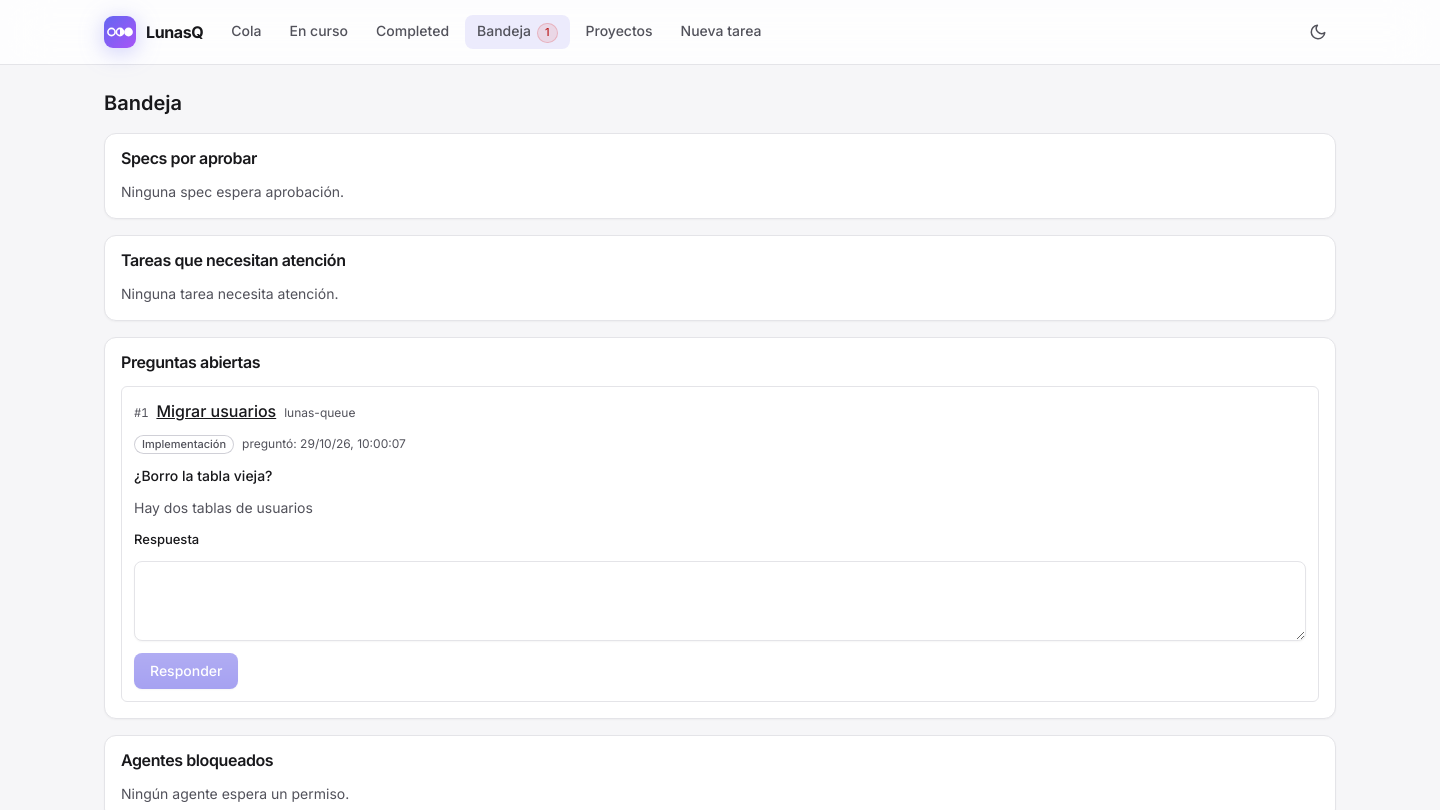
Scenario: bandeja › muestra la pregunta abierta con su contexto y la responde
Check: the text "¿Borro la tabla vieja?" is shown, box 134,467 -> 272,484
Check: the text "Hay dos tablas de usuarios" is shown, box 134,499 -> 313,516
In the text box labelled "Respuesta": [720, 601] box 134,561 -> 1306,641, type "Sí, bórrala"
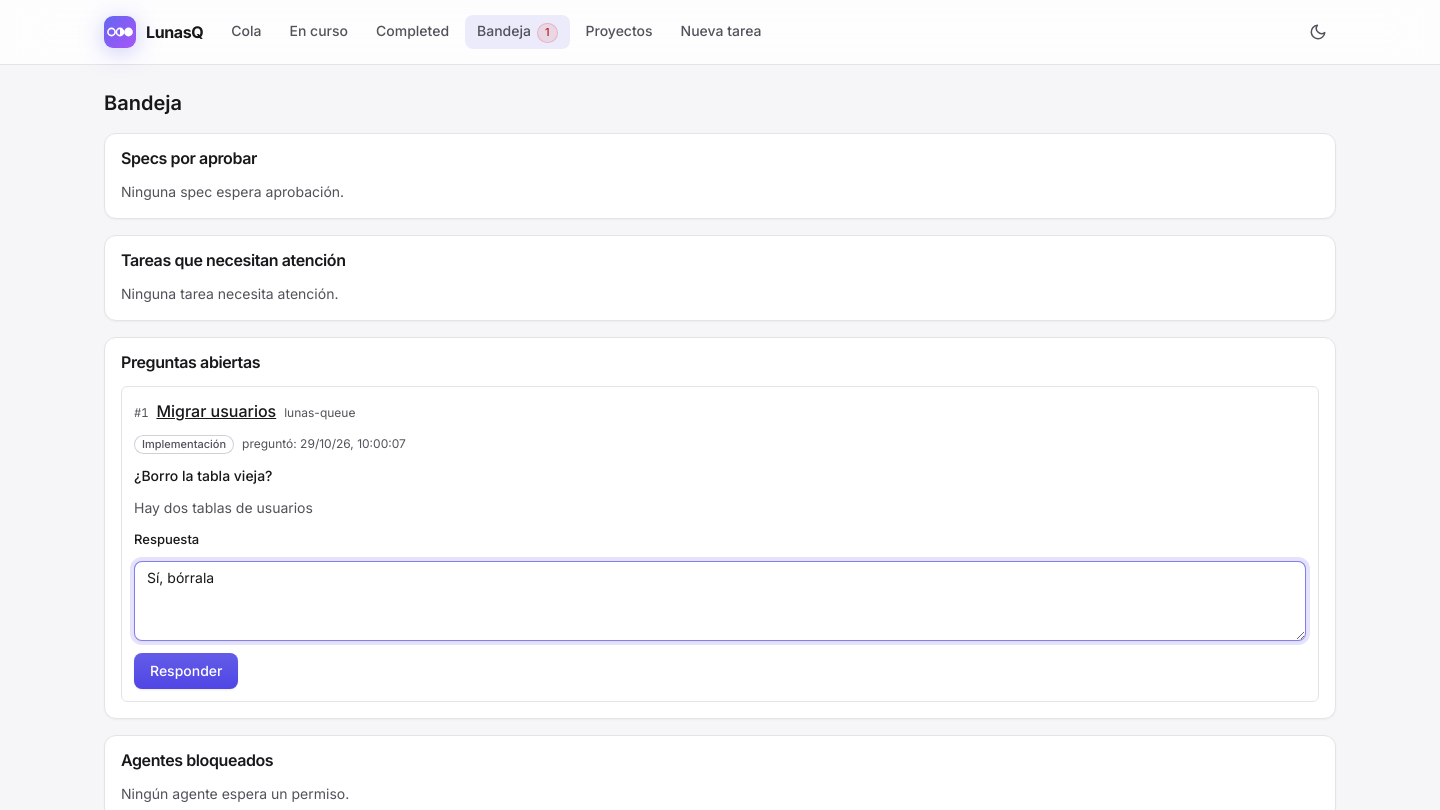
Click the button "Responder": [186, 671] box 134,653 -> 238,689
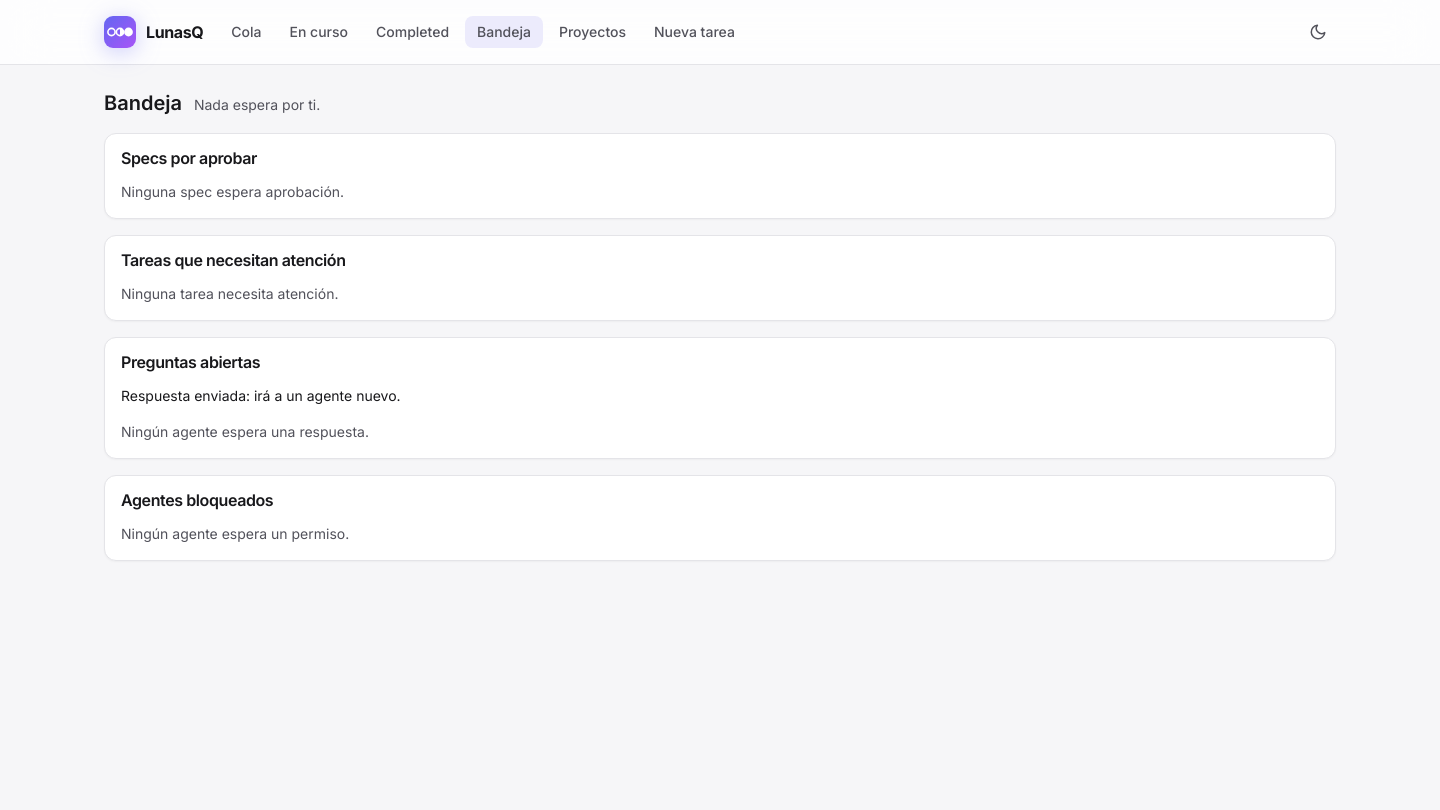
Check: the text "Ningún agente espera una respuesta." is shown, box 121,423 -> 369,440
Check: the message reads "Respuesta enviada: irá a un agente nuevo.", box 121,387 -> 401,404
